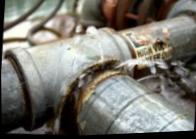leak: (62, 30, 103, 85), (117, 58, 188, 73)
